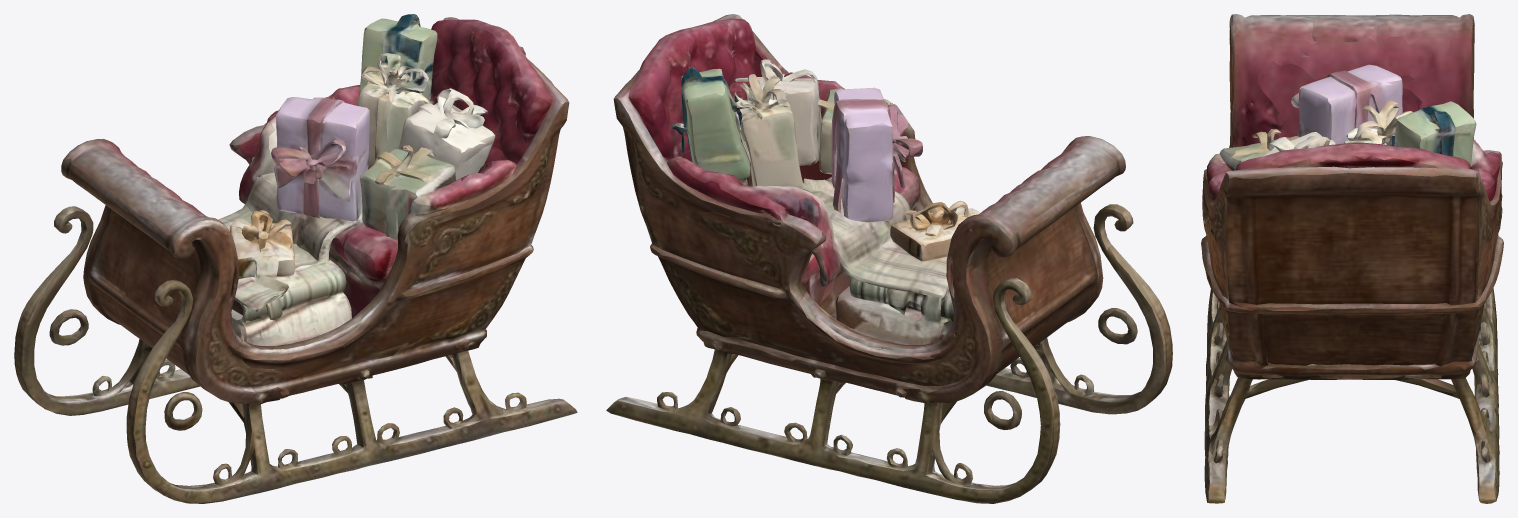
File: gift-sleigh.glb
3 views of the same model, side by side, from view 1: azimuth 30°, elevation 25°; view 2: azimuth 150°, elevation 25°; view 3: azimuth 270°, elevation 25° (orthographic). The views are drawn at different scales.
Parts seen in each view (by area): view 1: geometry_0; view 2: geometry_0; view 3: geometry_0.
Boxes of the visible parts, bbox=[...] form: geometry_0: bbox=[14, 14, 577, 503]; geometry_0: bbox=[606, 14, 1172, 503]; geometry_0: bbox=[1201, 14, 1503, 503].
Bounding box in the file's own units: 1.8 × 1.31 × 0.9849.
Materials: 1 (1 with a texture image).
